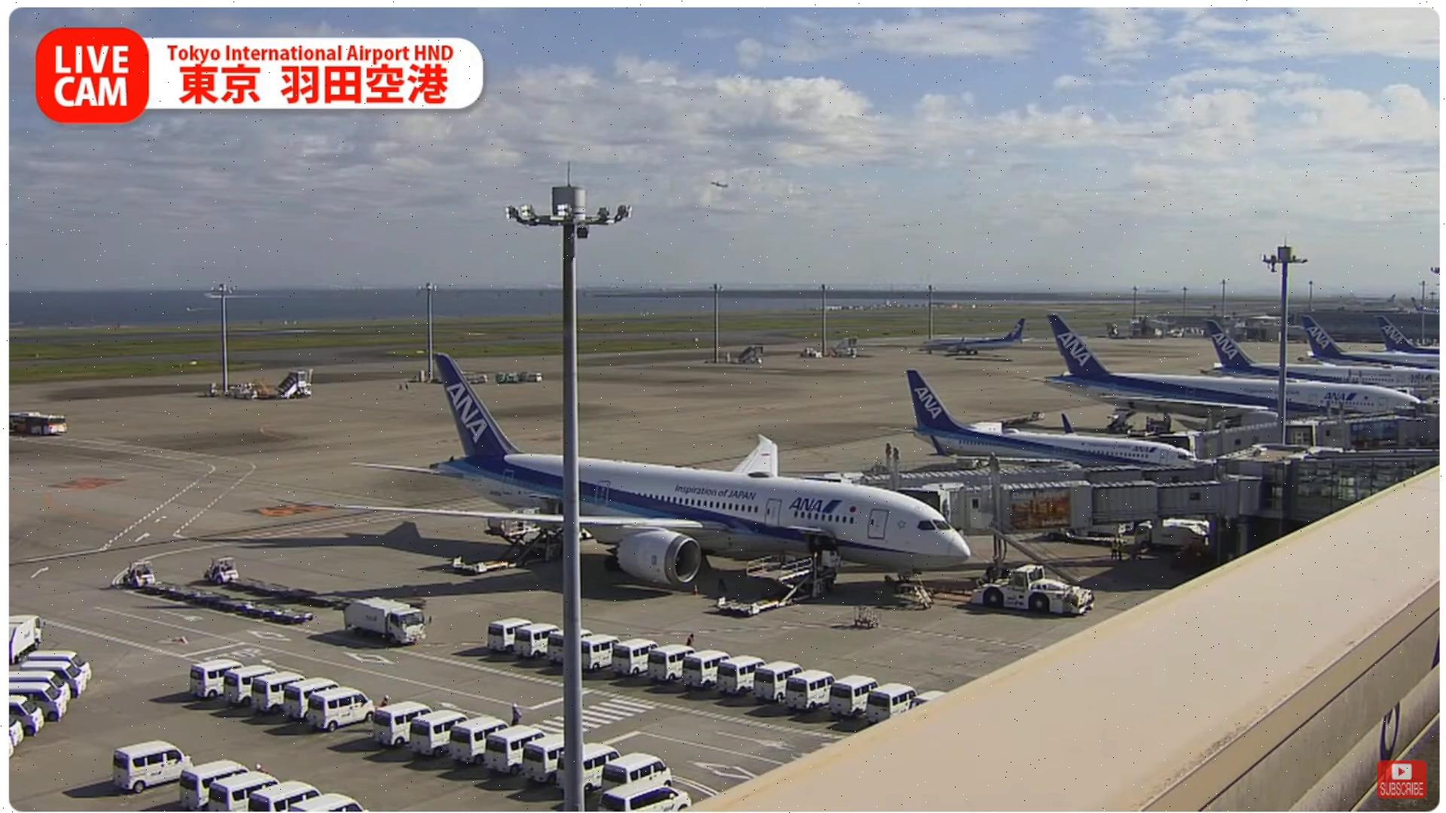APS: (969, 564, 1106, 619)
Aerobridge: (899, 476, 1264, 540), (843, 457, 1217, 496)
Airplane: (330, 354, 973, 599)
Baggage truck: (343, 596, 430, 643)
Dolly: (142, 578, 315, 624), (228, 576, 426, 610)
JCPL: (716, 556, 842, 620), (450, 522, 565, 575)
Tractor: (202, 554, 240, 584), (119, 562, 157, 589)
Window: (1290, 456, 1440, 523)
